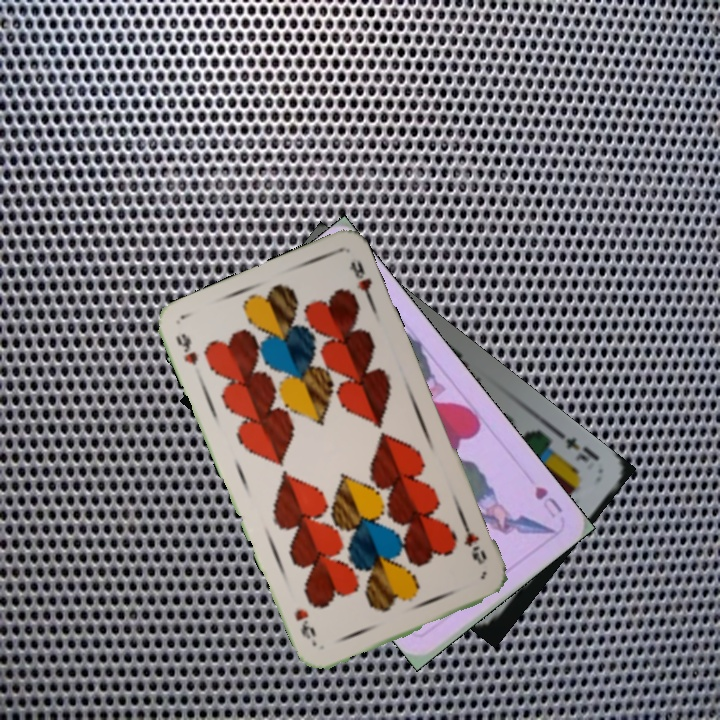EK: (554, 427, 602, 465)
H9: (459, 518, 490, 568), (171, 329, 201, 368)
HU: (530, 482, 565, 521)
